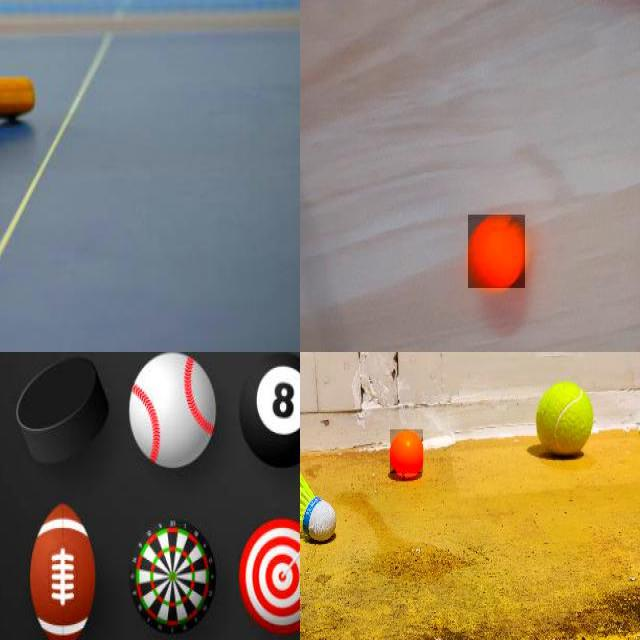ping-pong-ball: (468, 214, 526, 290), (390, 429, 424, 475)
